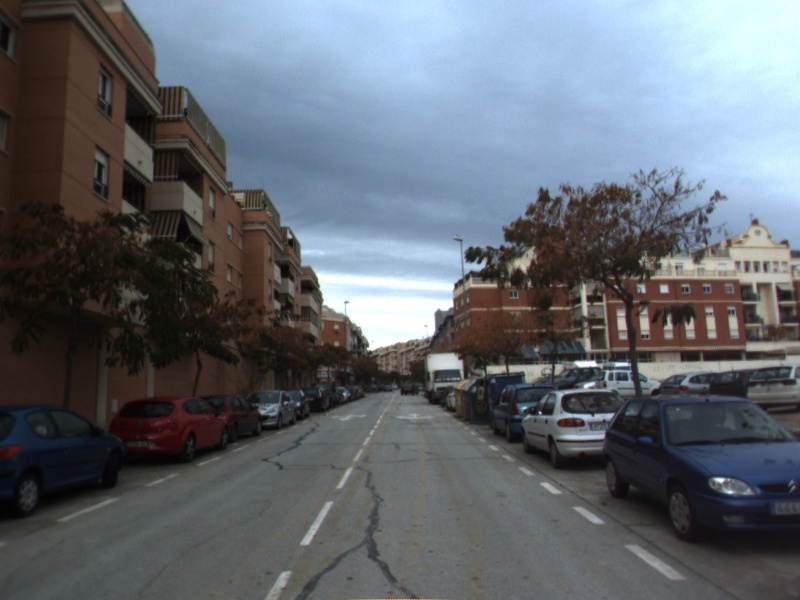STRAIGHT_LEFT_RIGHT: (393, 411, 436, 422)
